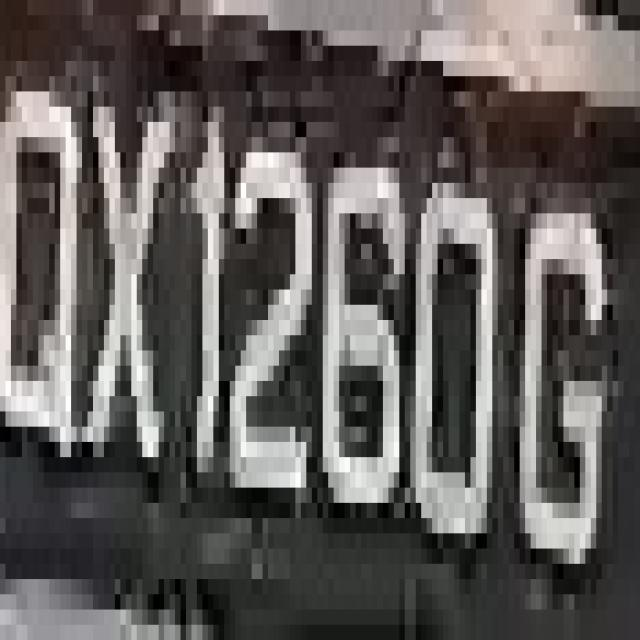0: (405, 106, 503, 548)
1: (170, 61, 230, 503)
2: (230, 107, 312, 518)
6: (312, 106, 394, 564)
G: (520, 137, 618, 579)
Q: (5, 30, 93, 503)
X: (71, 46, 175, 518)
